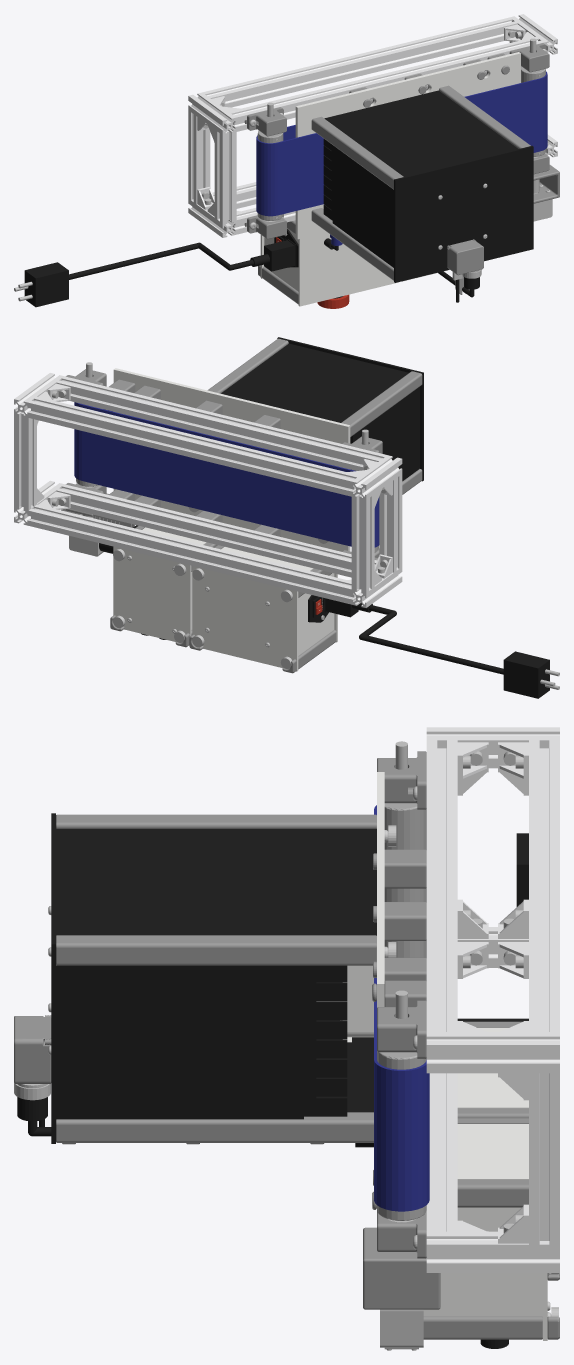
The model's file is machine.glb.
3 views of the same model, one above another, from view 1: azimuth 30°, elevation 25°; view 2: azimuth 150°, elevation 25°; view 3: azimuth 270°, elevation 25° (orthographic). The views are drawn at different scales.
Visible parts, largest first — view 1: tunnel__5, frame__0, conveyor__1, conveyor__4, control__4, control__0, tunnel__3, conveyor__3, sensing__1, drive__4, conveyor__2, control__10 (+3 smaller); view 2: frame__0, control__4, conveyor__1, tunnel__5, conveyor__4, control__0, tunnel__3, conveyor__3, control__1, control__10, drive__2; view 3: tunnel__5, frame__0, tunnel__3, control__4, conveyor__3, conveyor__1, control__10, drive__4, conveyor__2, sensing__1, meat__0, conveyor__4 (+5 smaller).
Part boxes in pixels (<box>): tunnel__5: <box>323,90,533,282</box>; frame__0: <box>188,14,557,237</box>; conveyor__1: <box>256,71,547,216</box>; conveyor__4: <box>295,52,520,239</box>; control__4: <box>260,228,449,306</box>; control__0: <box>24,229,342,307</box>; tunnel__3: <box>311,85,530,280</box>; conveyor__3: <box>247,43,549,239</box>; sensing__1: <box>447,239,483,294</box>; drive__4: <box>533,165,559,203</box>; conveyor__2: <box>257,66,545,220</box>; control__10: <box>258,220,298,304</box>; frame__0: <box>14,373,402,607</box>; control__4: <box>113,527,337,671</box>; conveyor__1: <box>74,402,379,547</box>; tunnel__5: <box>221,337,423,481</box>; conveyor__4: <box>113,368,350,551</box>; control__0: <box>141,595,549,698</box>; tunnel__3: <box>207,338,422,494</box>; conveyor__3: <box>66,369,382,560</box>; control__1: <box>113,549,559,689</box>; control__10: <box>110,525,336,673</box>; drive__2: <box>69,536,102,556</box>; tunnel__5: <box>51,813,376,1143</box>; frame__0: <box>426,727,559,1272</box>; tunnel__3: <box>56,814,376,1142</box>; control__4: <box>423,1027,547,1340</box>; conveyor__3: <box>372,751,426,1258</box>; conveyor__1: <box>374,805,429,1211</box>; control__10: <box>423,1021,559,1339</box>; drive__4: <box>363,1227,440,1309</box>; conveyor__2: <box>377,803,426,1220</box>; sensing__1: <box>14,1015,324,1144</box>; meat__0: <box>343,965,373,1042</box>; conveyor__4: <box>377,772,384,1007</box>.
Size of the model in its own units: 0.74 by 0.3115 by 0.352.
